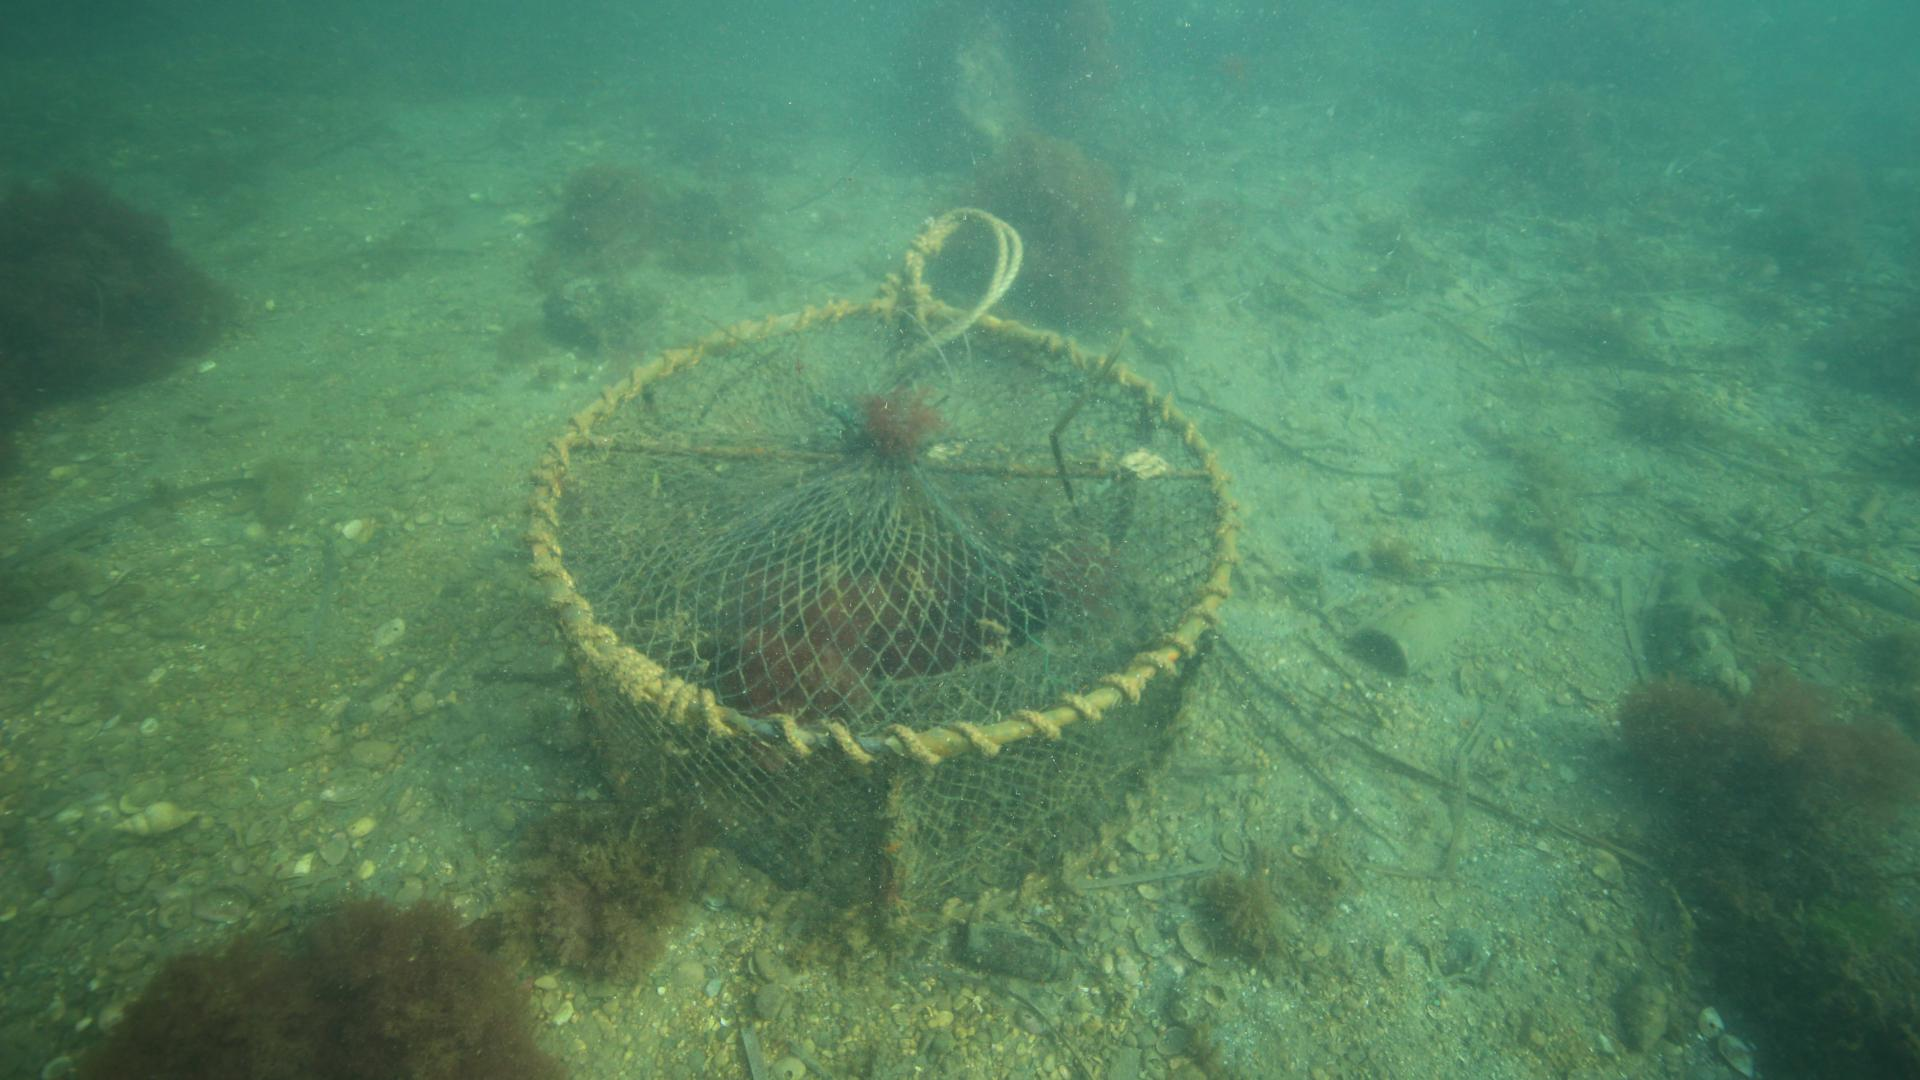bundle of ropes: (897, 207, 1026, 359)
circular fish trap: (522, 291, 1242, 939)
